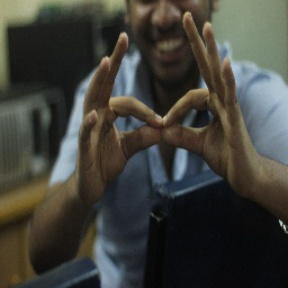B: (99, 74, 222, 170)
